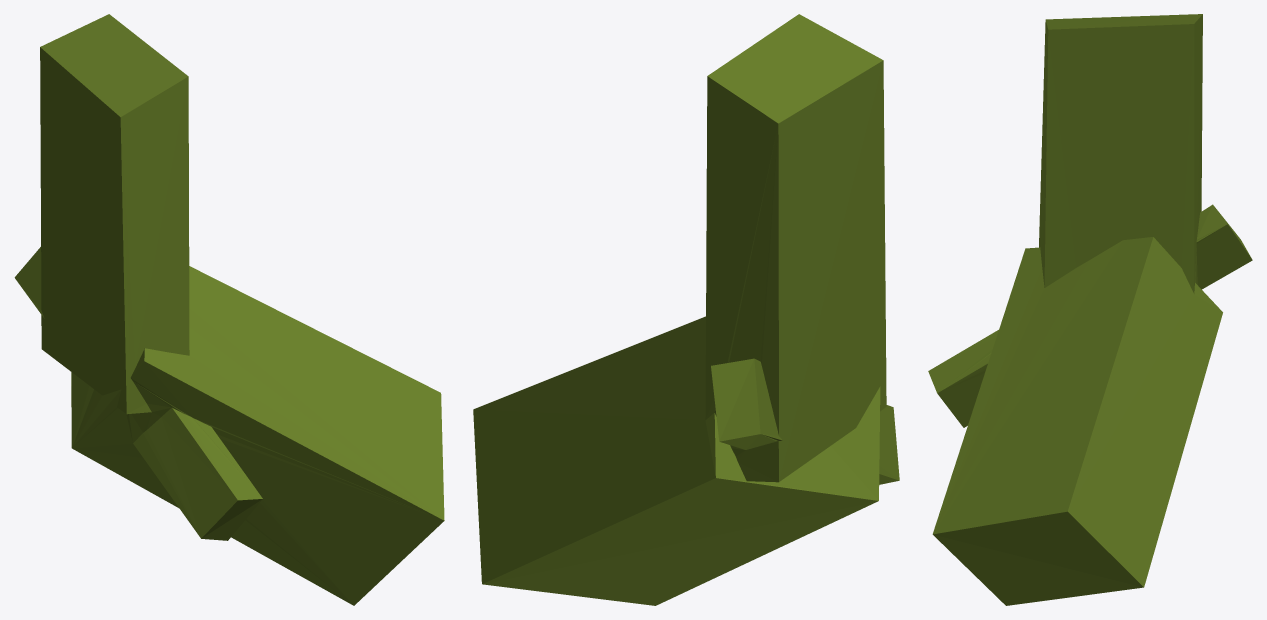
3 views of the same model, side by side, from view 1: azimuth 30°, elevation 25°; view 2: azimuth 150°, elevation 25°; view 3: azimuth 270°, elevation 25° (orthographic). The views are drawn at different scales.
Visible parts, largest first — view 1: 102_Cube.429; view 2: 102_Cube.429; view 3: 102_Cube.429.
Part boxes in pixels (left/top/right/bottom): 102_Cube.429: left=14, top=14, right=444, bottom=605; 102_Cube.429: left=473, top=14, right=899, bottom=605; 102_Cube.429: left=928, top=14, right=1252, bottom=605.
Size of the model in its own units: 13.84 by 20.63 by 11.75.
